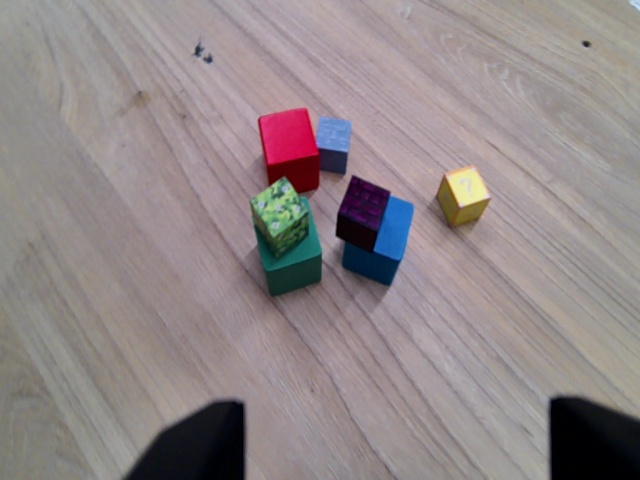brick: (334, 168, 397, 255)
grass: (248, 178, 312, 260), (314, 113, 353, 179)
lucky: (433, 165, 493, 230)
